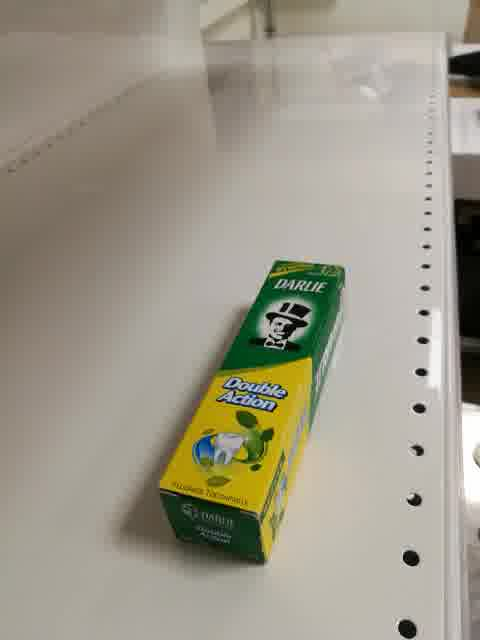toothpaste: (158, 260, 348, 568)
